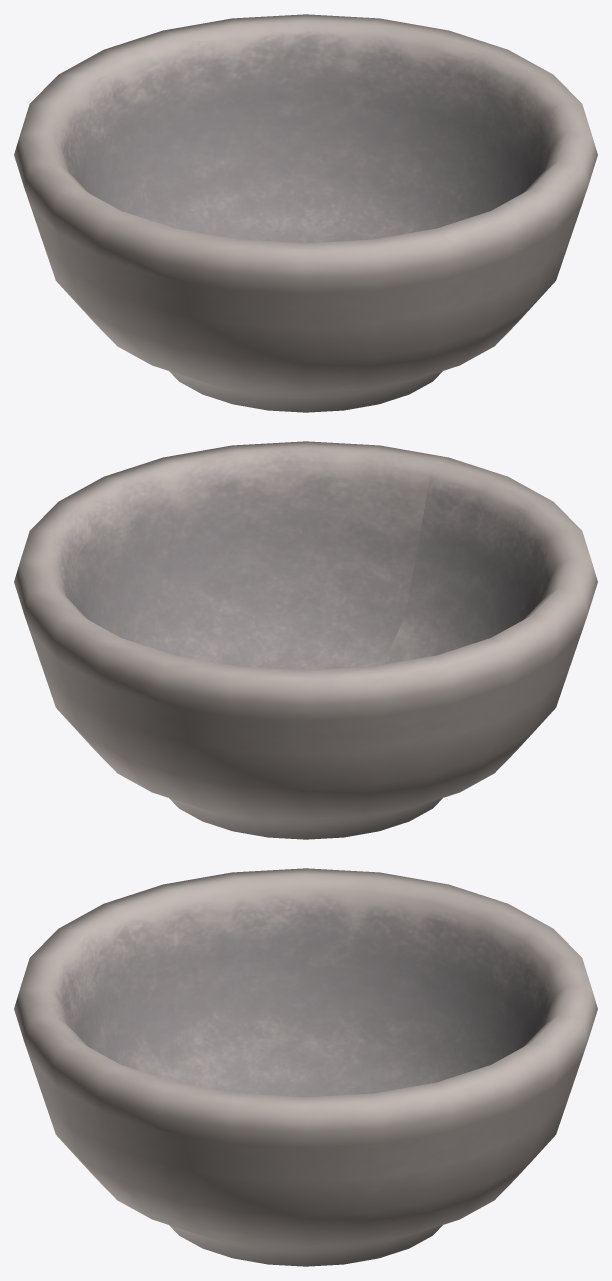
The model's file is bowl.fbx.
3 renders of one model, top to bottom at view 1: azimuth 30°, elevation 25°; view 2: azimuth 150°, elevation 25°; view 3: azimuth 270°, elevation 25°, orthographic.
Visible parts, largest first — view 1: Bowl; view 2: Bowl; view 3: Bowl.
Part boxes in pixels (box(x1,y1,x2,y2)): Bowl: box(14, 14, 597, 412); Bowl: box(14, 441, 597, 839); Bowl: box(14, 868, 597, 1266).
Size of the model in its own units: 67.57 by 27.85 by 67.57.
